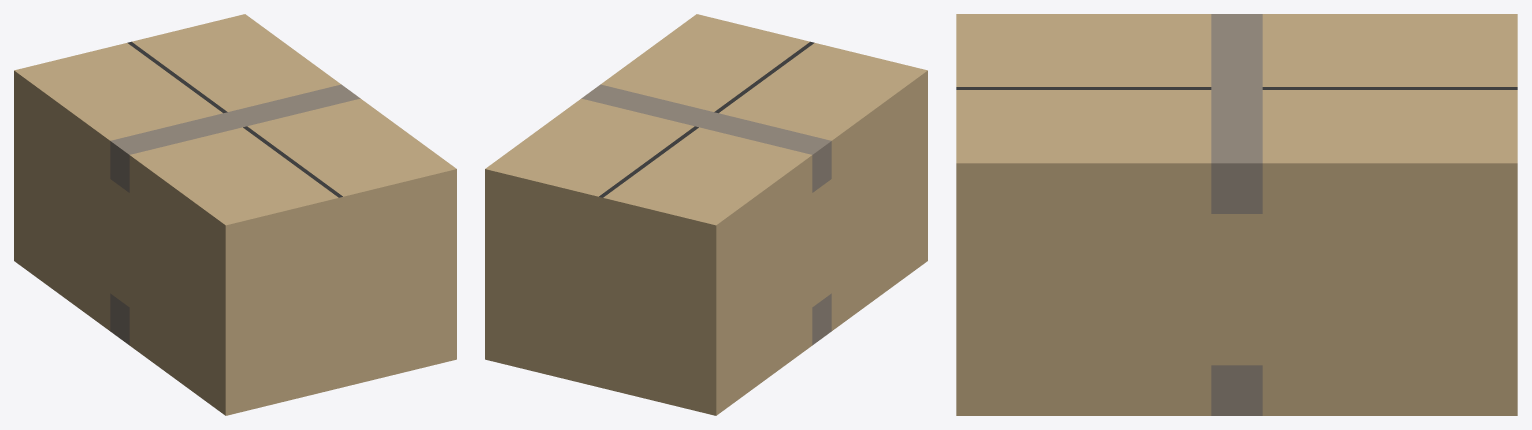
3 views of the same model, side by side, from view 1: azimuth 30°, elevation 25°; view 2: azimuth 150°, elevation 25°; view 3: azimuth 270°, elevation 25° (orthographic). The views are drawn at different scales.
Visible parts, largest first — view 1: StorageBox1; view 2: StorageBox1; view 3: StorageBox1.
Part boxes in pixels (<box>): StorageBox1: <box>14,14,456,415</box>; StorageBox1: <box>485,14,927,415</box>; StorageBox1: <box>956,14,1517,415</box>.
Bounding box in the file's own units: 18.4 × 14.49 × 29.19.
